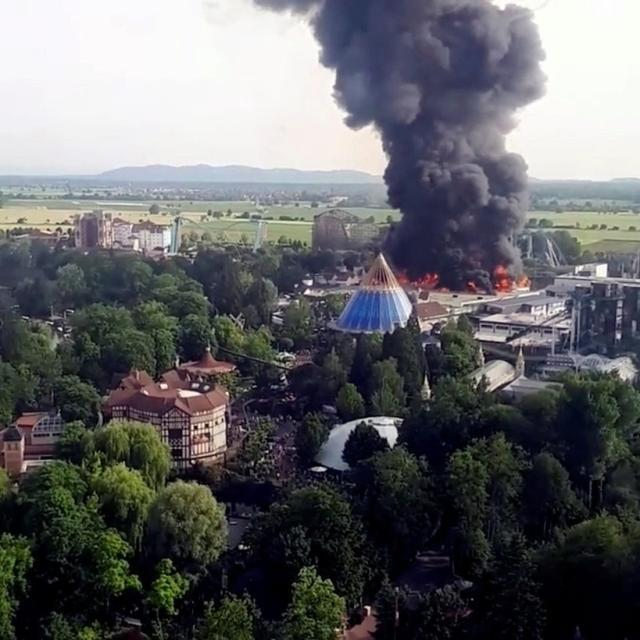Fire: (492, 265, 532, 293), (395, 268, 440, 292)
Smoke: (252, 1, 548, 292)
